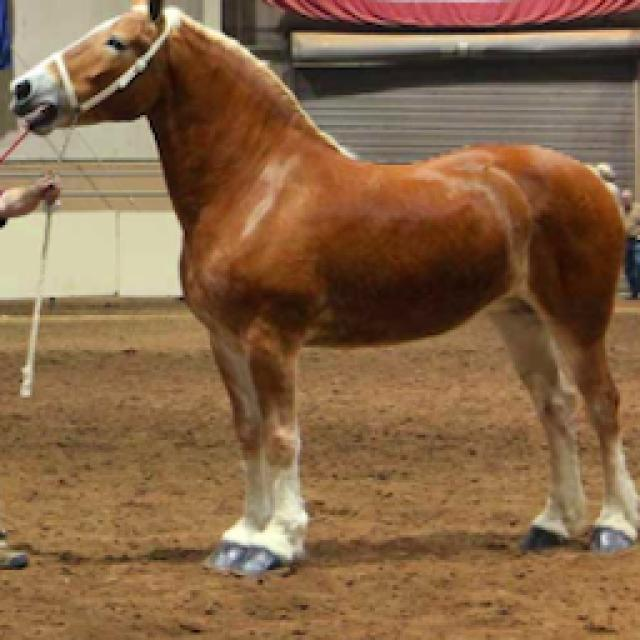Horse: (0, 0, 638, 580)
